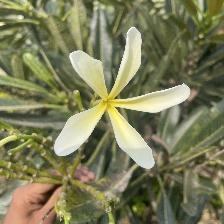champaka: (55, 24, 194, 174)
